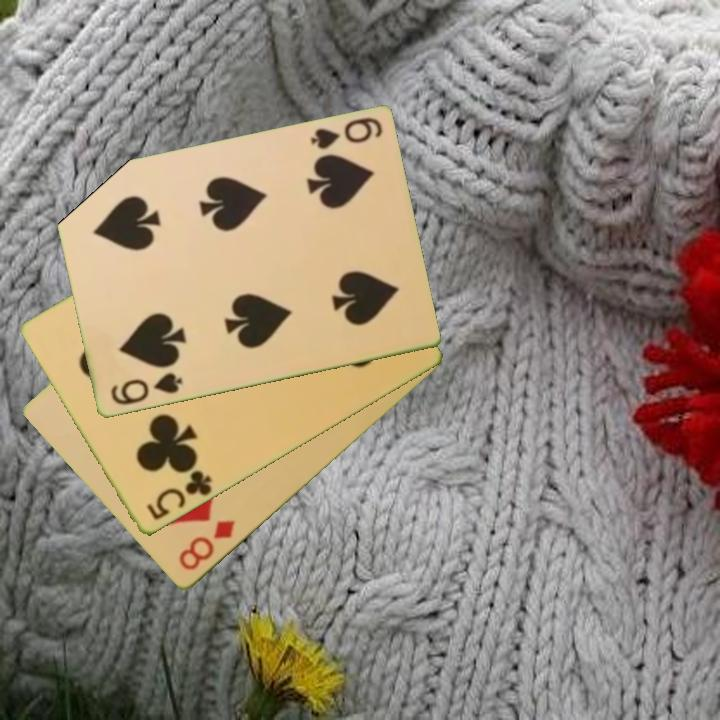5c: (142, 467, 215, 524)
6s: (106, 369, 185, 409), (307, 114, 385, 153)
8d: (175, 517, 239, 574)
